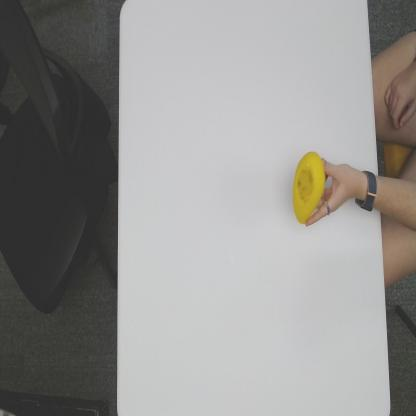Duck: (292, 148, 326, 224)
Hand: (306, 158, 355, 228)
